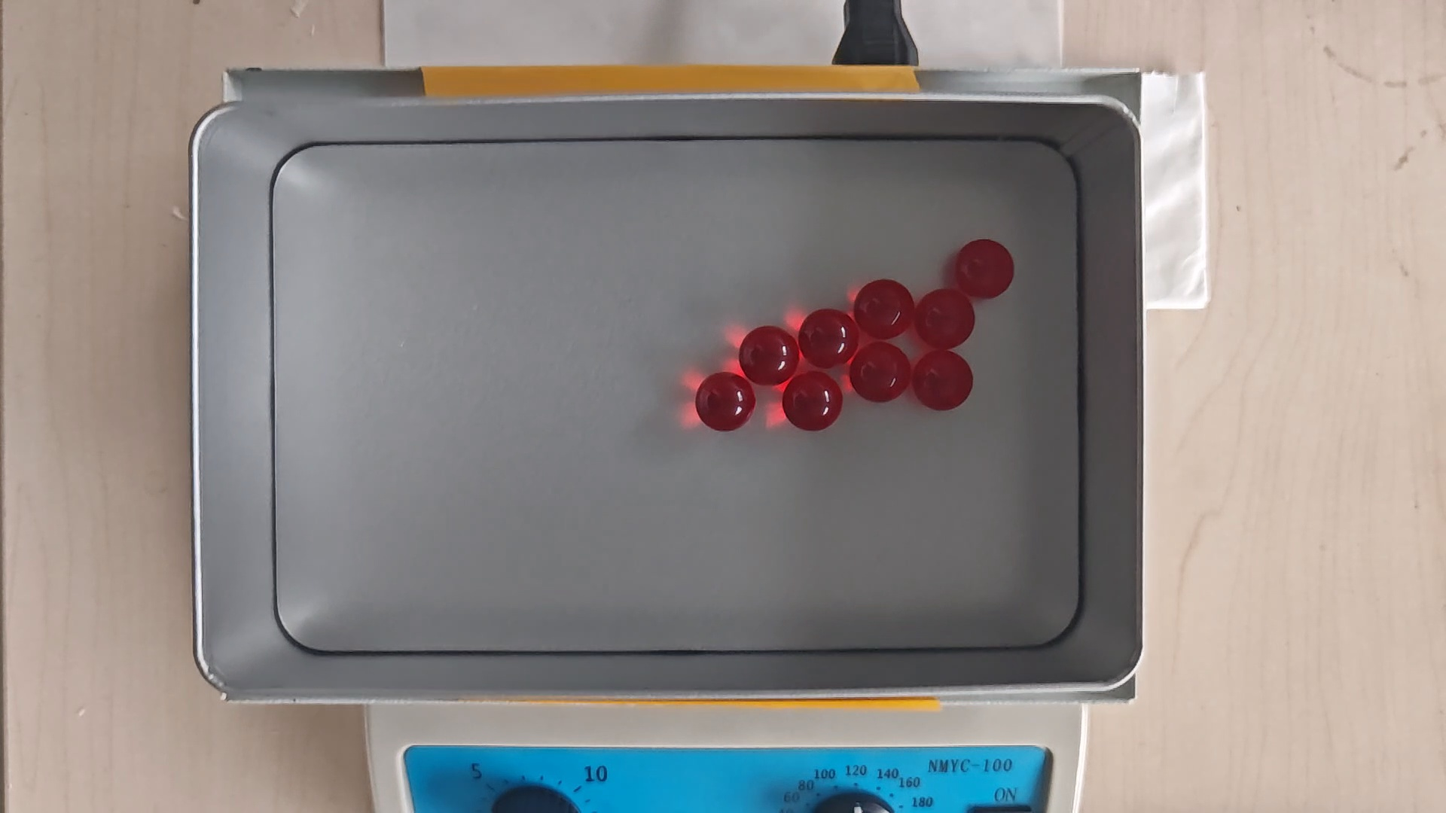ball: (696, 371, 756, 433), (784, 370, 843, 433), (914, 350, 974, 411), (915, 289, 976, 349), (851, 343, 910, 403), (740, 325, 799, 385), (855, 279, 914, 339), (800, 308, 858, 369), (956, 239, 1015, 298)
container: (273, 138, 1080, 652)
